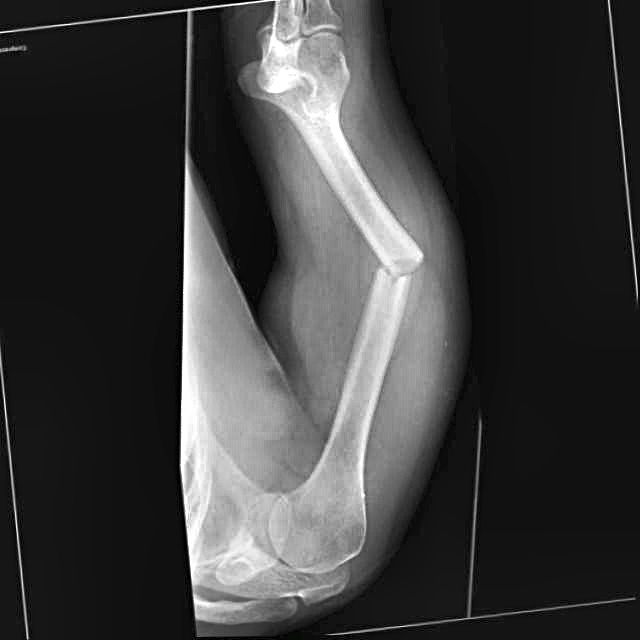Transverse: (360, 226, 440, 311)
